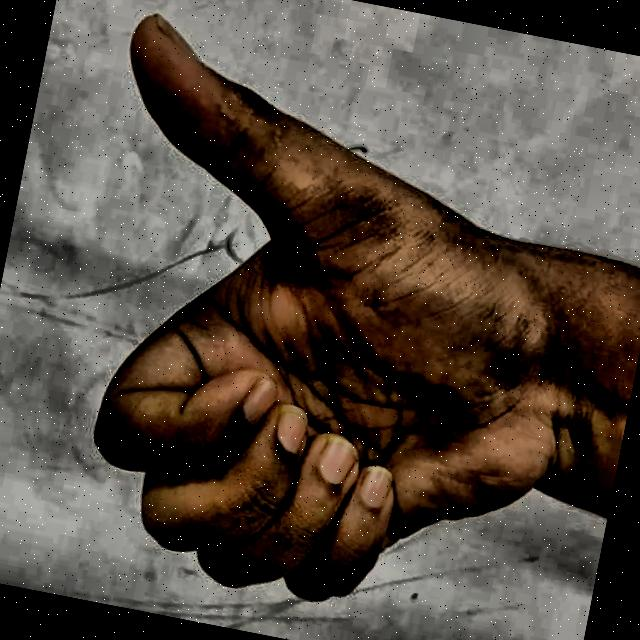Do: (8, 0, 624, 640)
